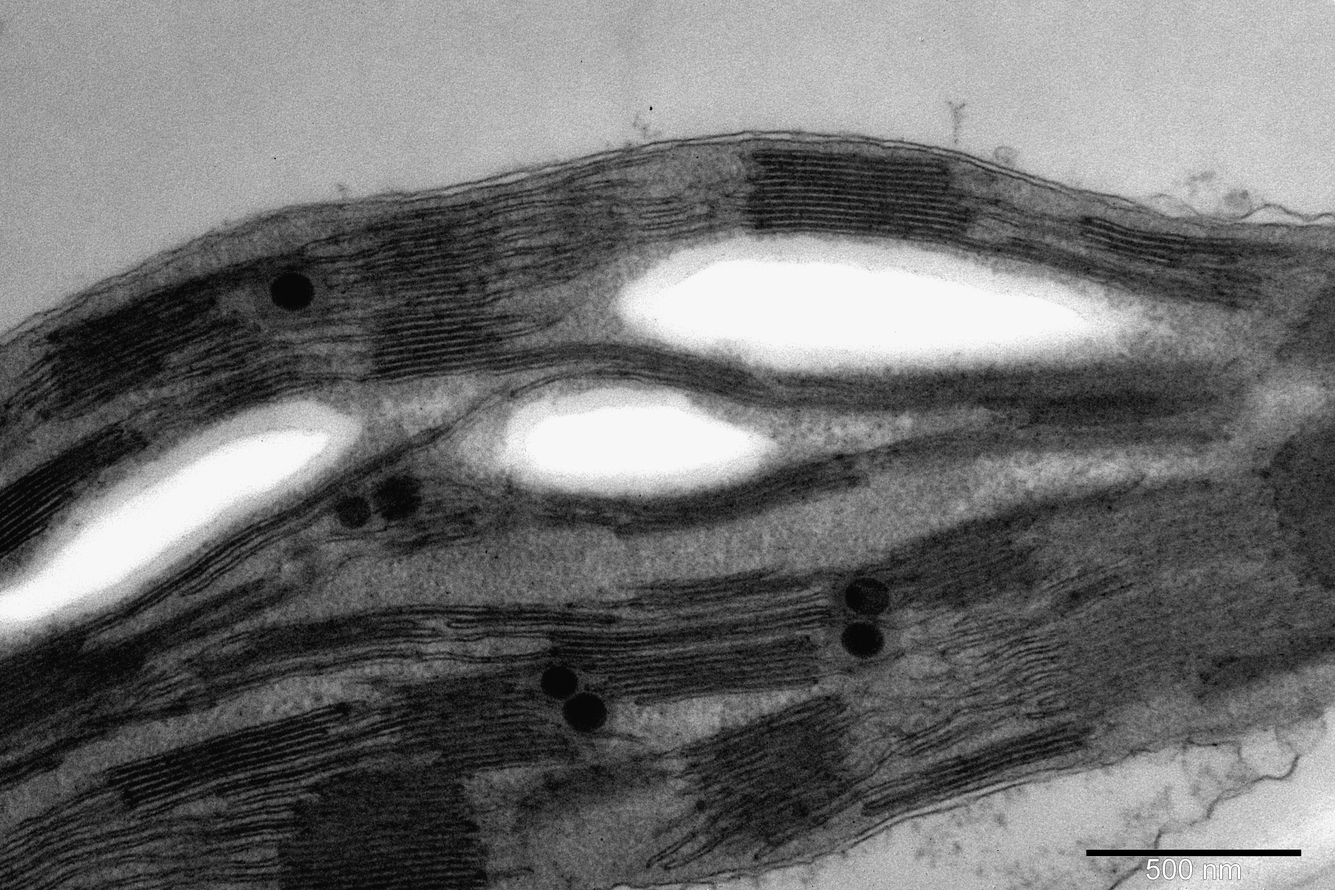granum: (46, 254, 268, 423), (864, 357, 1215, 458), (1051, 575, 1262, 720), (680, 691, 864, 854), (557, 451, 872, 546), (553, 604, 825, 709), (362, 199, 516, 384), (276, 759, 488, 890), (109, 702, 350, 814), (0, 615, 197, 739), (744, 146, 970, 252), (388, 665, 573, 782), (0, 419, 149, 561), (1000, 237, 1264, 315), (514, 339, 778, 415), (201, 602, 428, 680), (888, 504, 1043, 614), (924, 717, 1093, 806), (1268, 418, 1335, 589), (191, 353, 323, 430), (637, 557, 818, 612), (1198, 627, 1333, 698), (529, 751, 664, 814), (1080, 215, 1239, 268), (450, 601, 579, 644), (0, 736, 67, 794), (181, 677, 245, 715)
